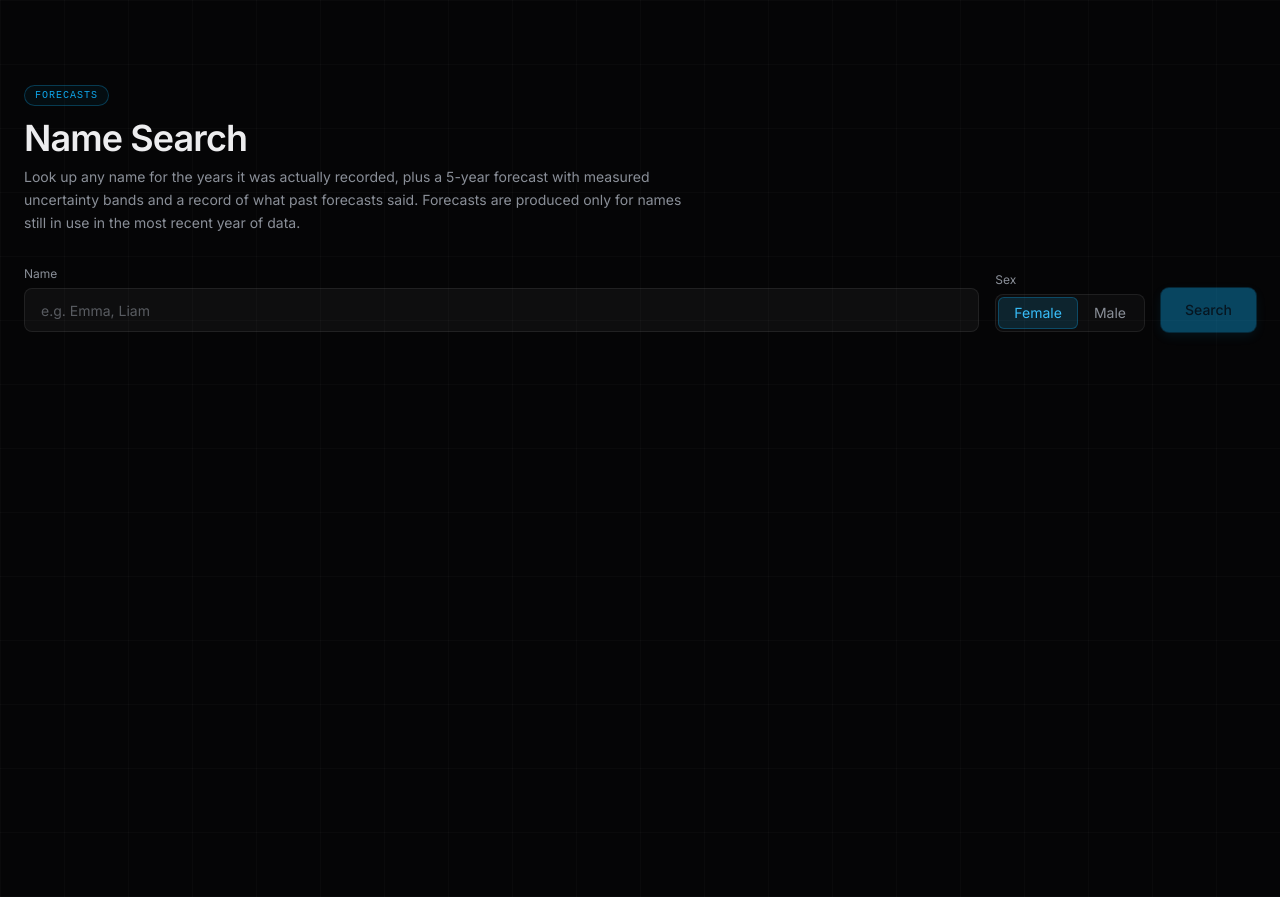
Test case: SearchPage statistics disclosure › warns in plain sight when the forecast does worse than assuming no change
The image size is (1280, 897).
Type "Emma" into the field labelled "Name" at (502, 310), box x1=24 y1=288 x2=979 y2=332
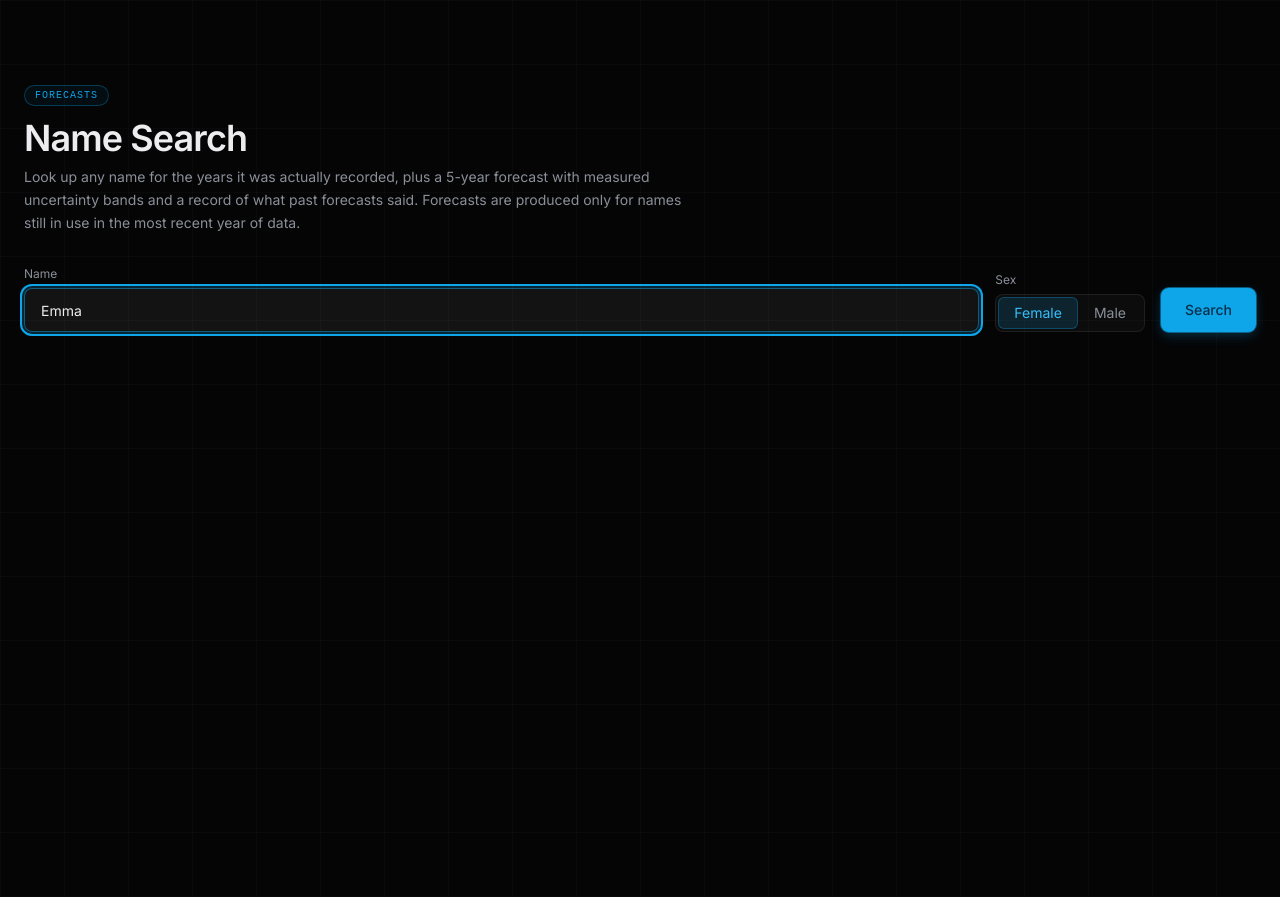
Click the button "Search" at (1208, 310), box x1=1161 y1=288 x2=1256 y2=332
(page scrolled)
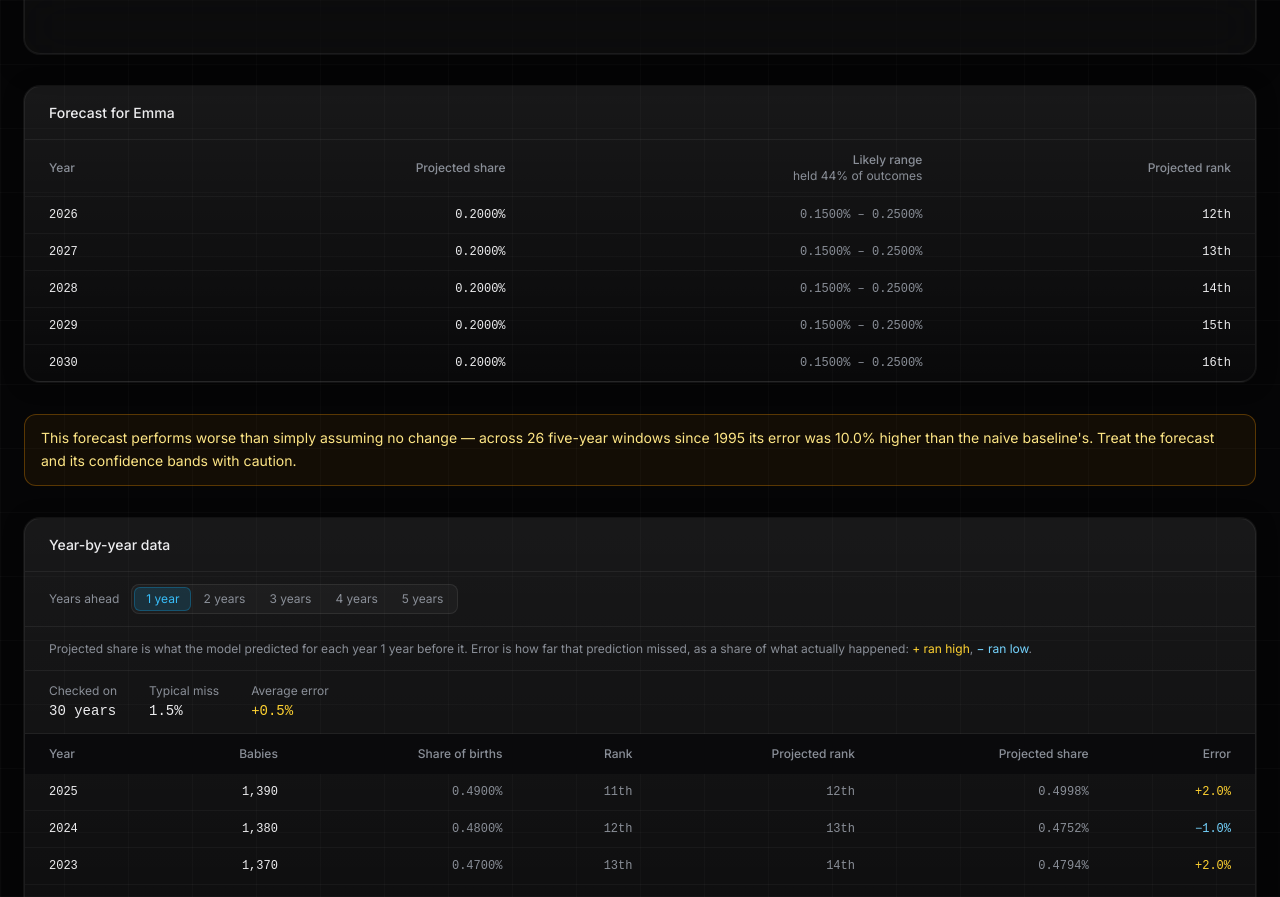
Result: the table "Forecast" is shown at x1=25 y1=87 x2=1255 y2=381
Result: the text "10.0%" is shown at x1=835 y1=429 x2=875 y2=446
